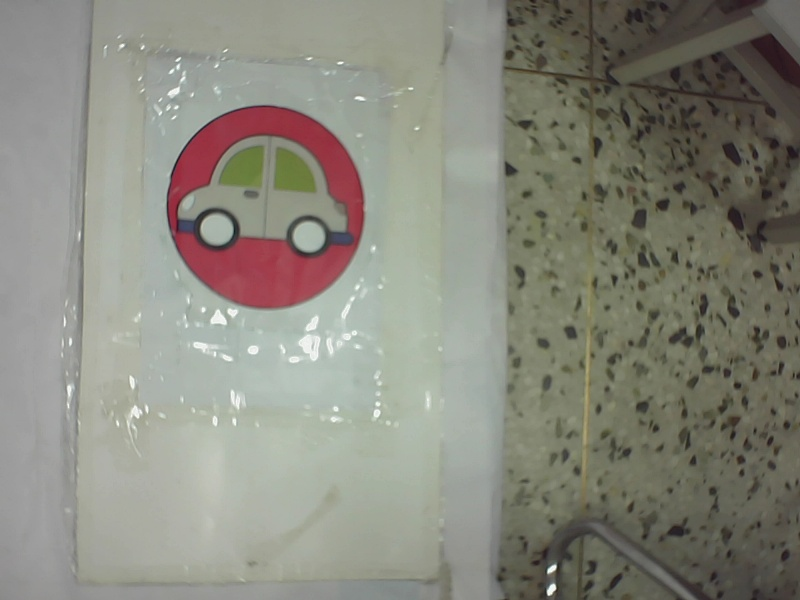areaC: (156, 91, 371, 317)
